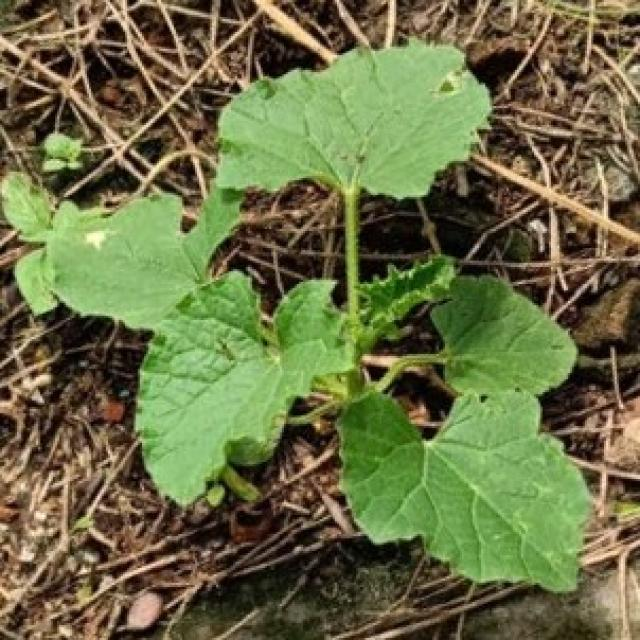plant: (5, 43, 590, 592)
